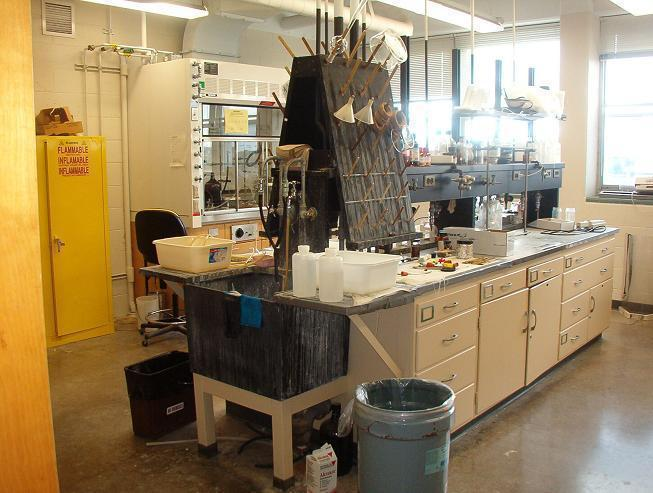Bote de Basura: (359, 376, 455, 491)
Lavaplatos: (205, 141, 331, 472)
